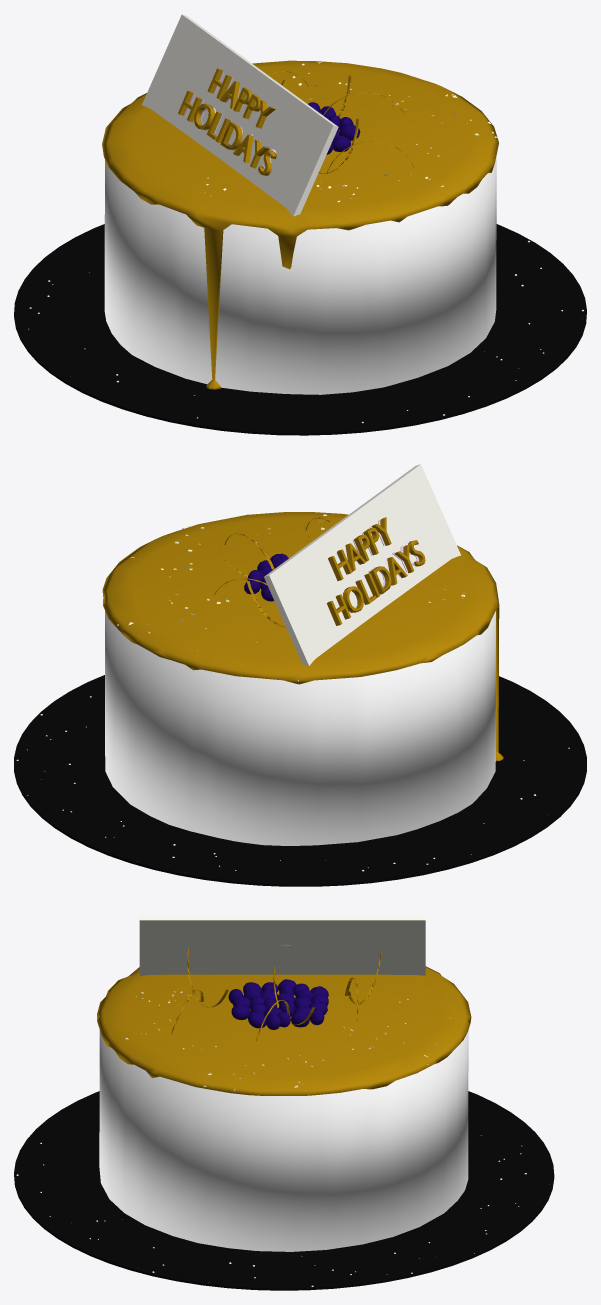
Rendered from holidayCakeNoStrawberriesandFlakes.fbx.
3 renders of one model, top to bottom at view 1: azimuth 30°, elevation 25°; view 2: azimuth 150°, elevation 25°; view 3: azimuth 270°, elevation 25°, orthographic. The views are drawn at different scales.
Parts seen in each view (by area): view 1: Cylinder, Cylinder_002, Cylinder_001, Cube_001, Text_001; view 2: Cylinder, Cylinder_002, Cylinder_001, Cube_001, Text_001; view 3: Cylinder, Cylinder_002, Cylinder_001, Cube_001.
Boxes of the visible parts, x1=… form: Cylinder: x1=104, y1=156, x2=496, y2=394; Cylinder_002: x1=14, y1=224, x2=586, y2=435; Cylinder_001: x1=102, y1=60, x2=498, y2=382; Cube_001: x1=142, y1=14, x2=338, y2=216; Text_001: x1=178, y1=68, x2=276, y2=175; Cylinder: x1=105, y1=611, x2=495, y2=845; Cylinder_002: x1=14, y1=675, x2=586, y2=886; Cylinder_001: x1=102, y1=512, x2=499, y2=752; Cube_001: x1=264, y1=464, x2=460, y2=665; Text_001: x1=326, y1=517, x2=425, y2=625; Cylinder: x1=99, y1=1030, x2=468, y2=1251; Cylinder_002: x1=14, y1=1091, x2=554, y2=1290; Cylinder_001: x1=97, y1=966, x2=471, y2=1095; Cube_001: x1=139, y1=915, x2=425, y2=975.
Bounding box in the file's own units: 291 × 148 × 309.
